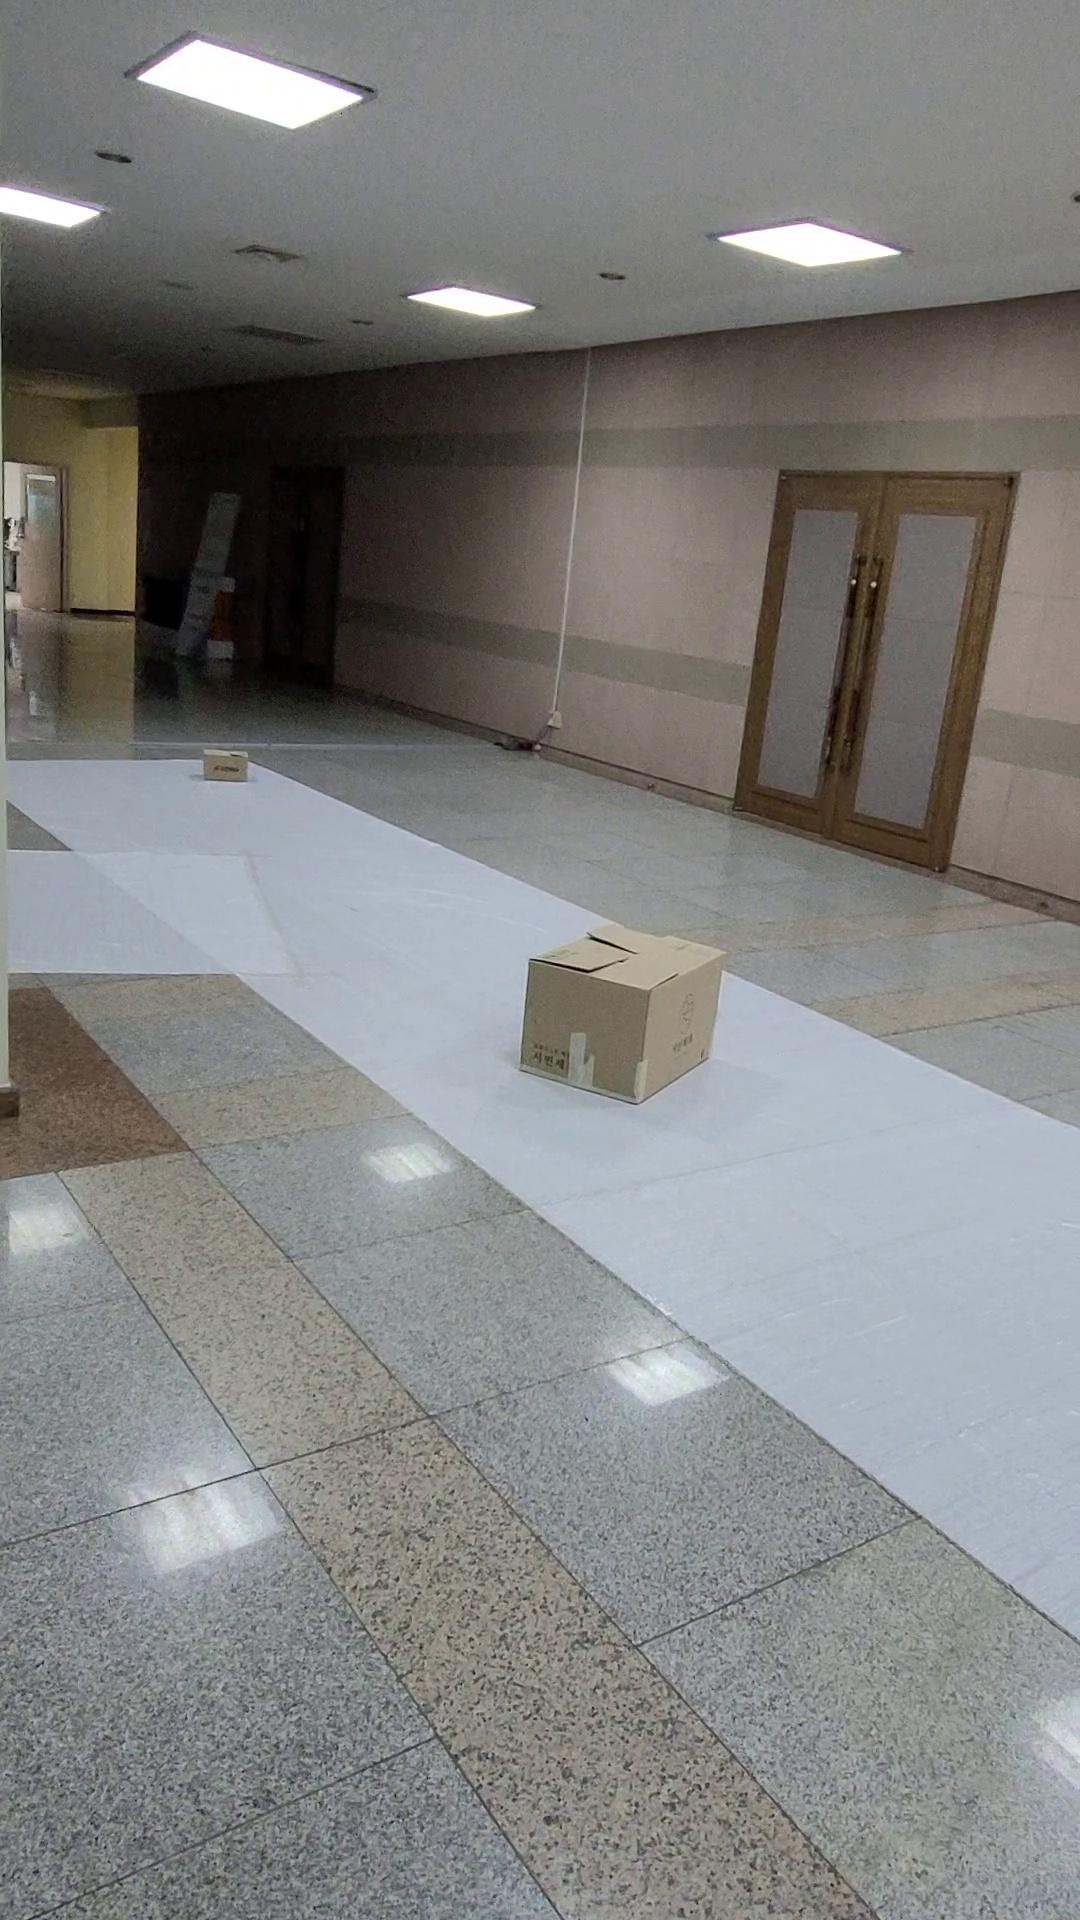Box: (506, 905, 746, 1130), (171, 731, 262, 804)
